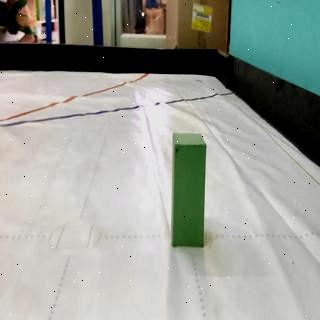greenbox: (172, 130, 206, 250)
